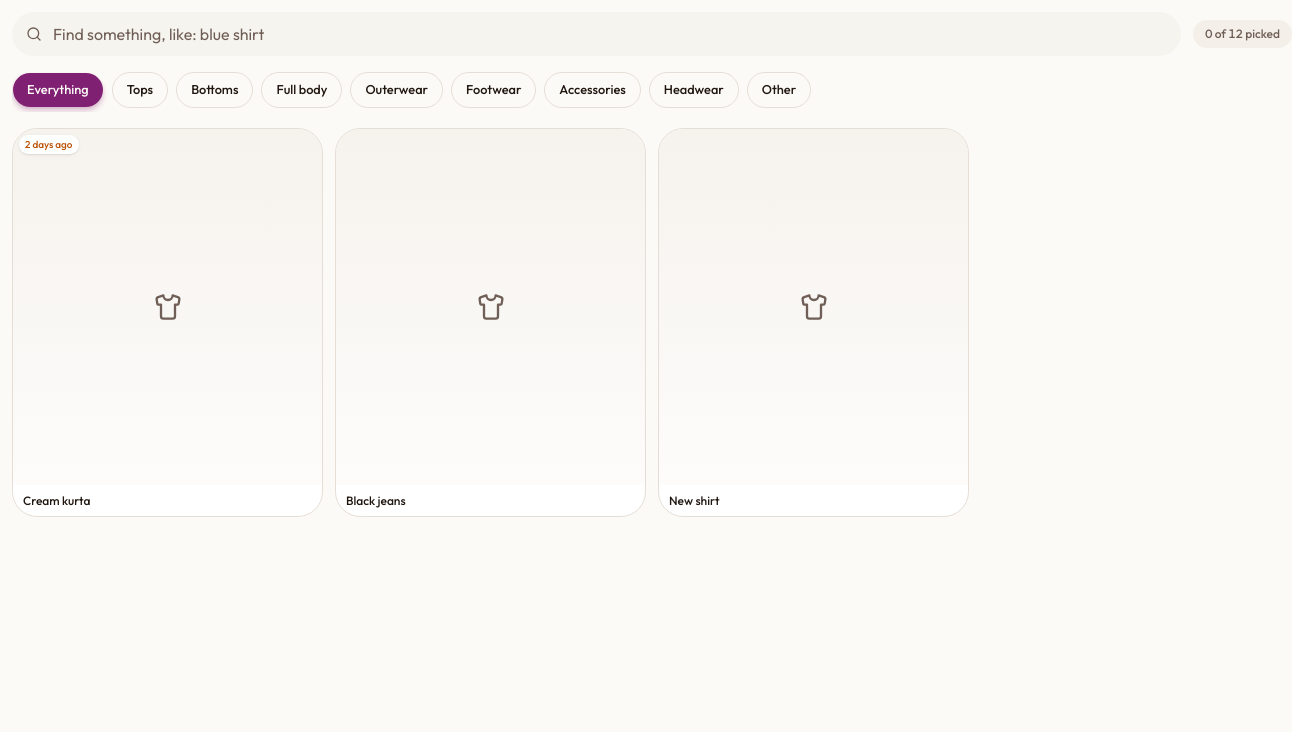
Test: ItemPicker › takes something back out again
Click the button with aria-label "Cream kurta." at {"x": 168, "y": 322}, box [12,128,323,517]
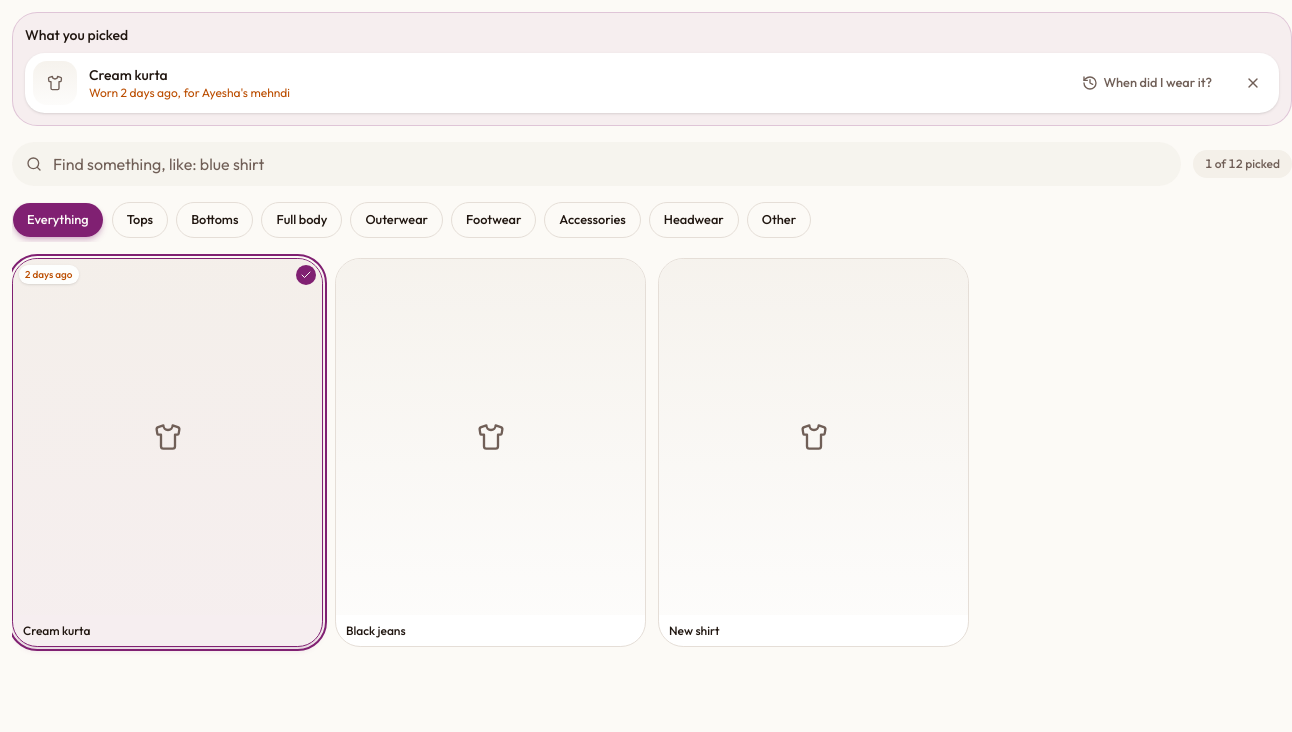
Now the text "1 of 12 picked" is shown, box [1193,150,1291,178]
Click the button named "take cream kurta out" at {"x": 1253, "y": 83}, box [1235,65,1271,101]
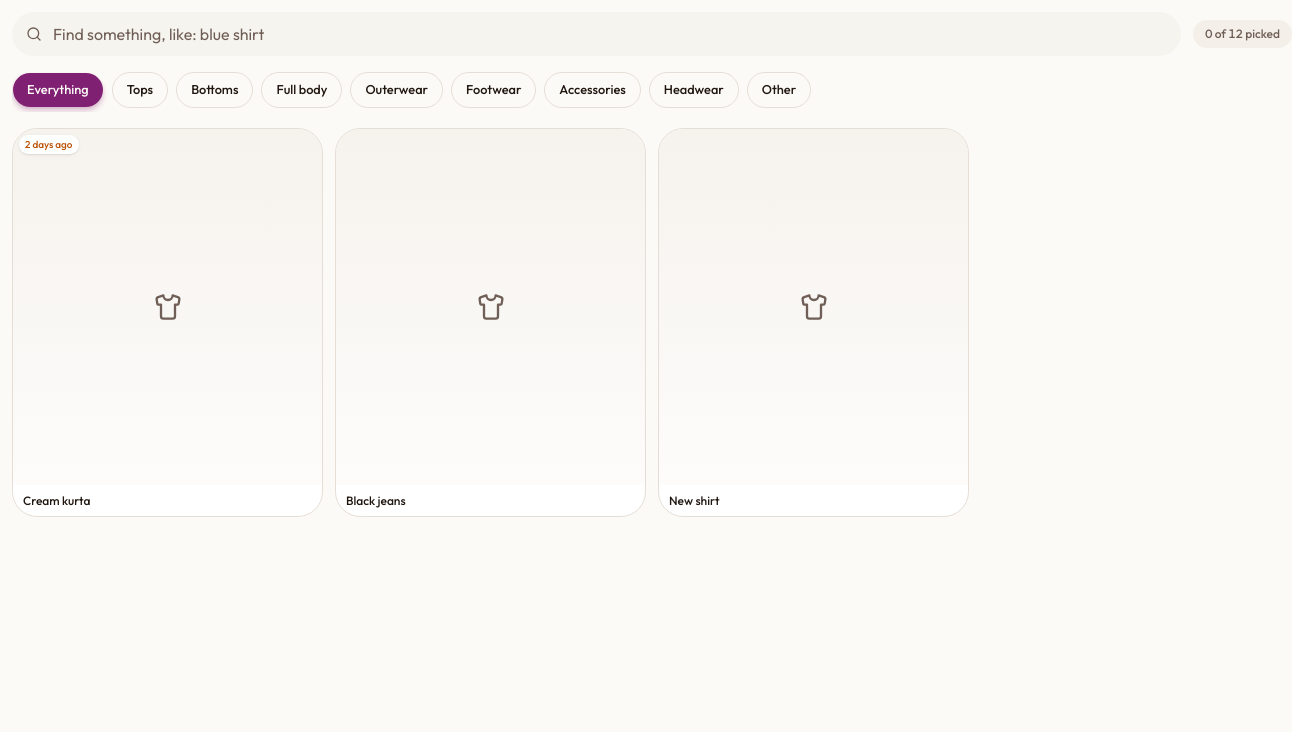
Now the text "0 of 12 picked" is shown, box [1193,20,1291,48]
